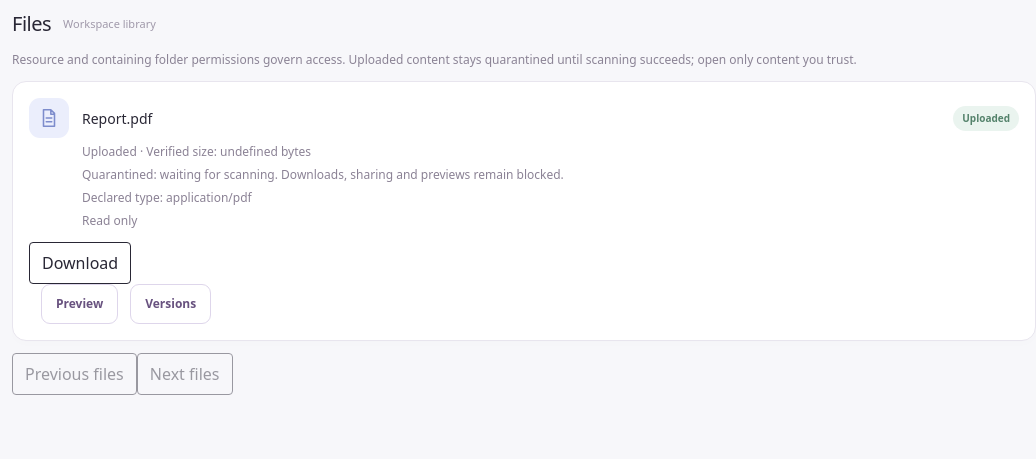
Downloads › offers downloads for uploaded read-only files and shows authorization errors
The image size is (1036, 459).
Step 1. Click the button with aria-label "Download Report.pdf" → (80, 263), box [29,242,131,284]
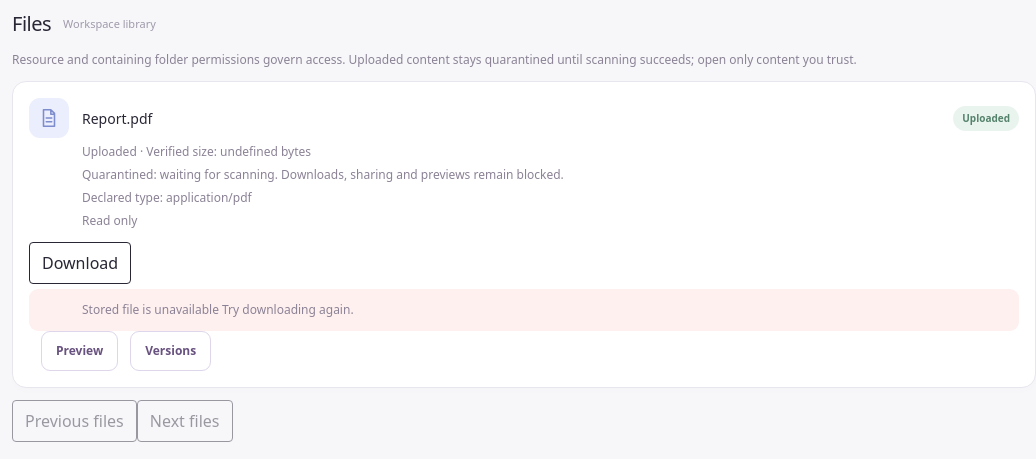
Expected: the message shows "Stored file is unavailable", [82,301,219,318]
